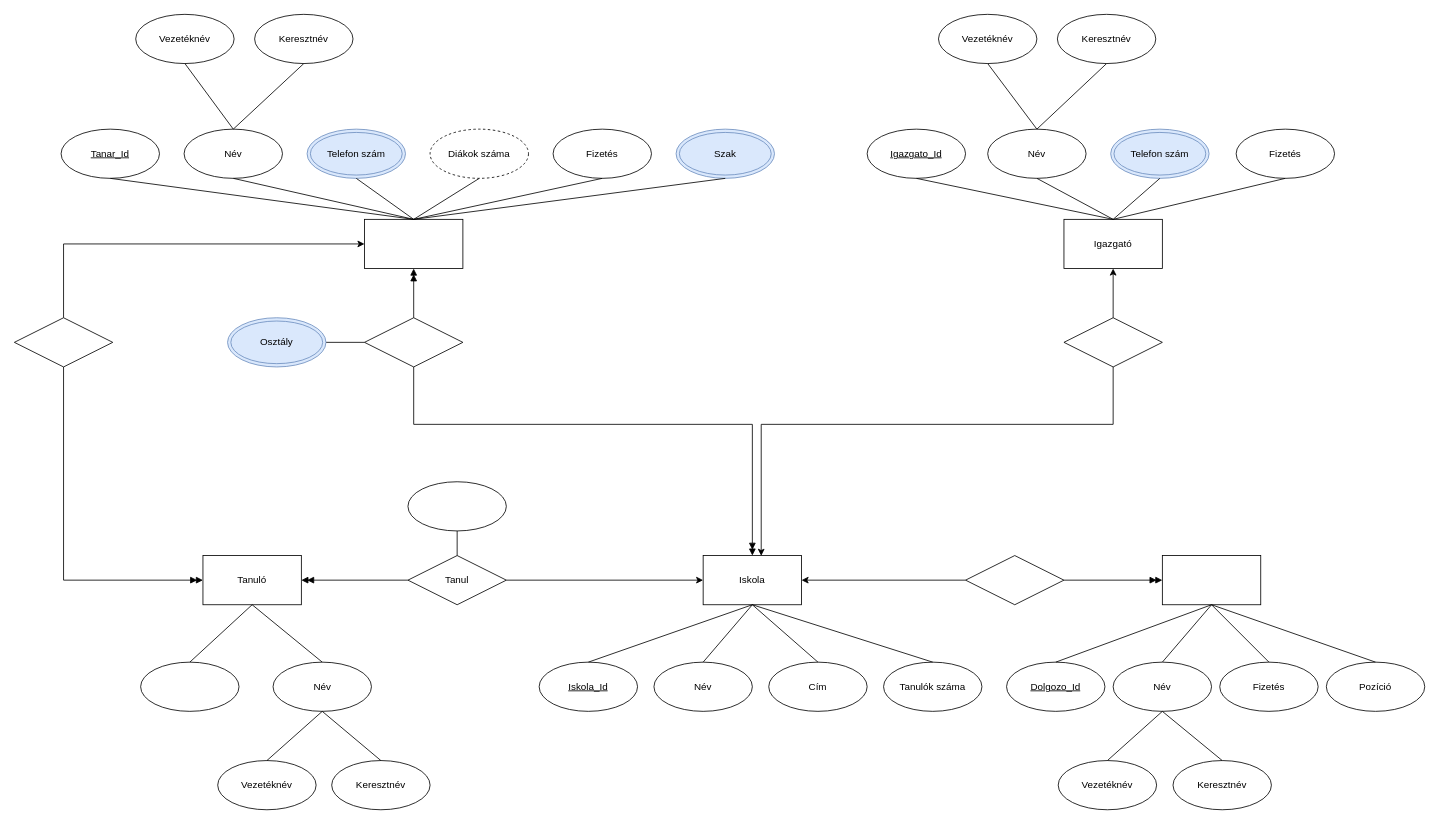
Image size: 1439x824. Some labels were removed from this diagram. Here are the shapes that lost their labels. From the top down, the centre of each, then its label:
At point 413,244: "Tanár".
At point 63,342: "Osztályfőnök".
At point 413,342: "Oktat".
At point 1112,342: "Vezet".
At point 456,506: "Osztály".
At point 1014,580: "Dolgozik".
At point 1211,580: "Dolgozó".
At point 189,686: "Tanulo_Id".
